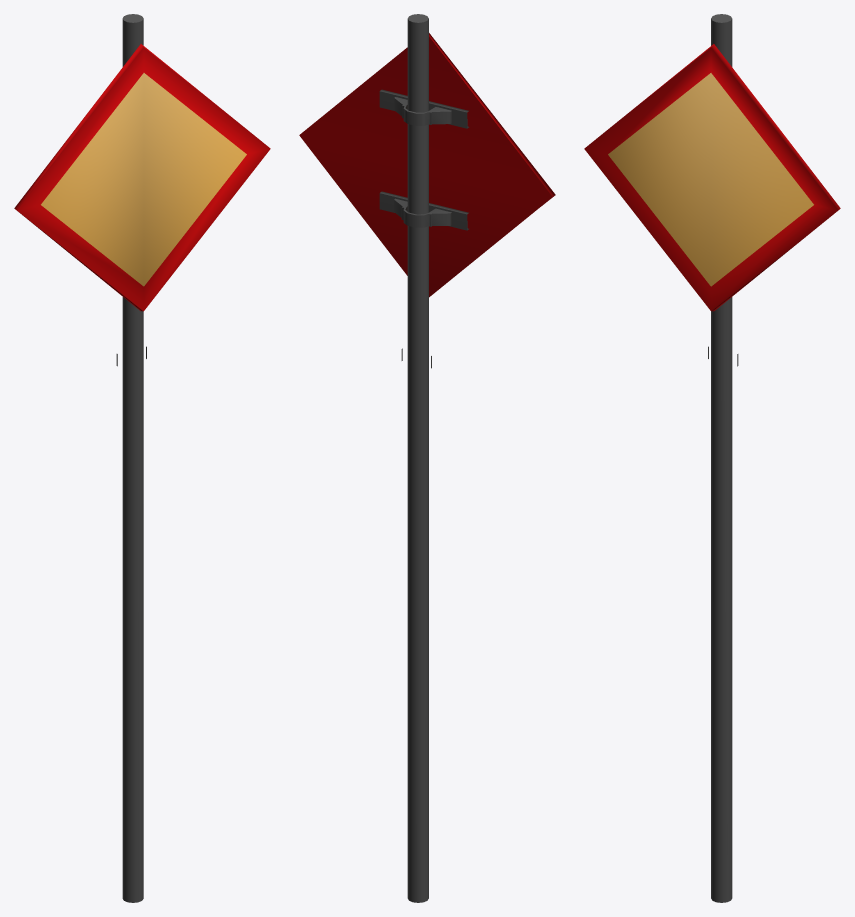
File: LosangTrafficSign_Regular.fbx
3 renders of one model, left to right at view 1: azimuth 30°, elevation 25°; view 2: azimuth 150°, elevation 25°; view 3: azimuth 330°, elevation 25°, orthographic.
Parts seen in each view (by area): view 1: LosangTrafficSign_Regular; view 2: LosangTrafficSign_Regular; view 3: LosangTrafficSign_Regular.
Part boxes in pixels (bbox=[...]): LosangTrafficSign_Regular: bbox=[14, 14, 270, 902]; LosangTrafficSign_Regular: bbox=[299, 14, 555, 902]; LosangTrafficSign_Regular: bbox=[584, 14, 840, 902].
Size of the model in its own units: 77.47 by 257 by 9.07.
